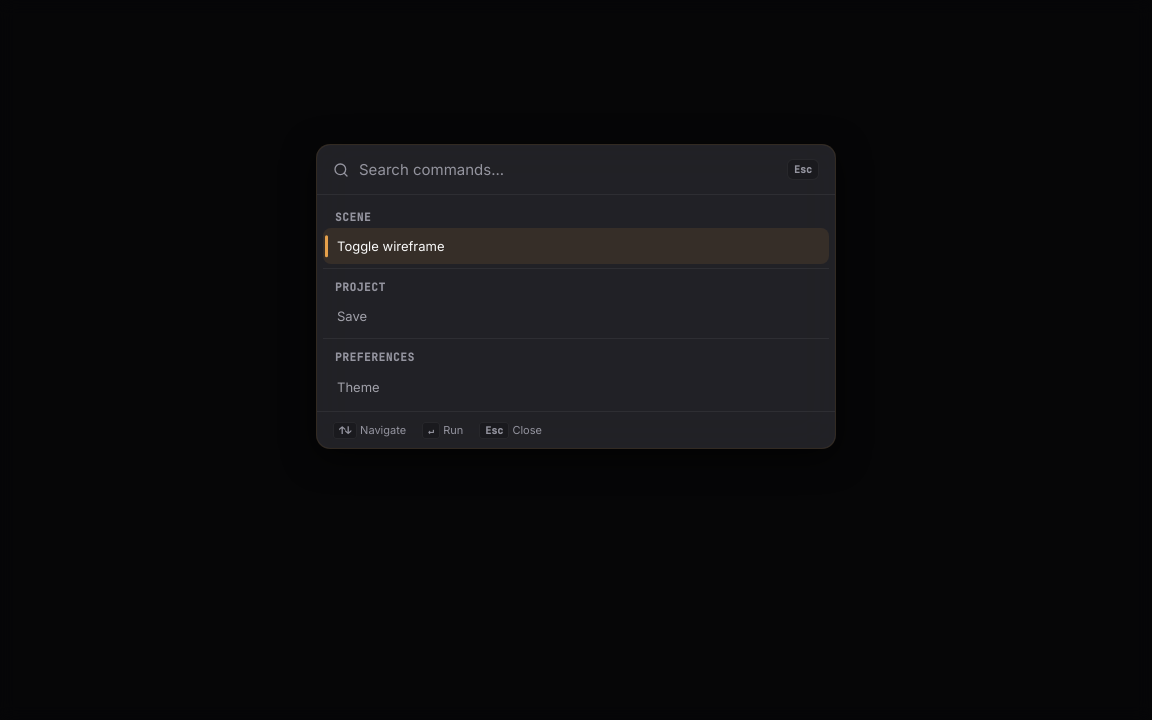
it: CommandPalette — category grouping › does not show category headers when a query is typed
Type "s" into the field with placeholder "Search commands...". click: x=568, y=170
box: left=359, top=160, right=777, bottom=179
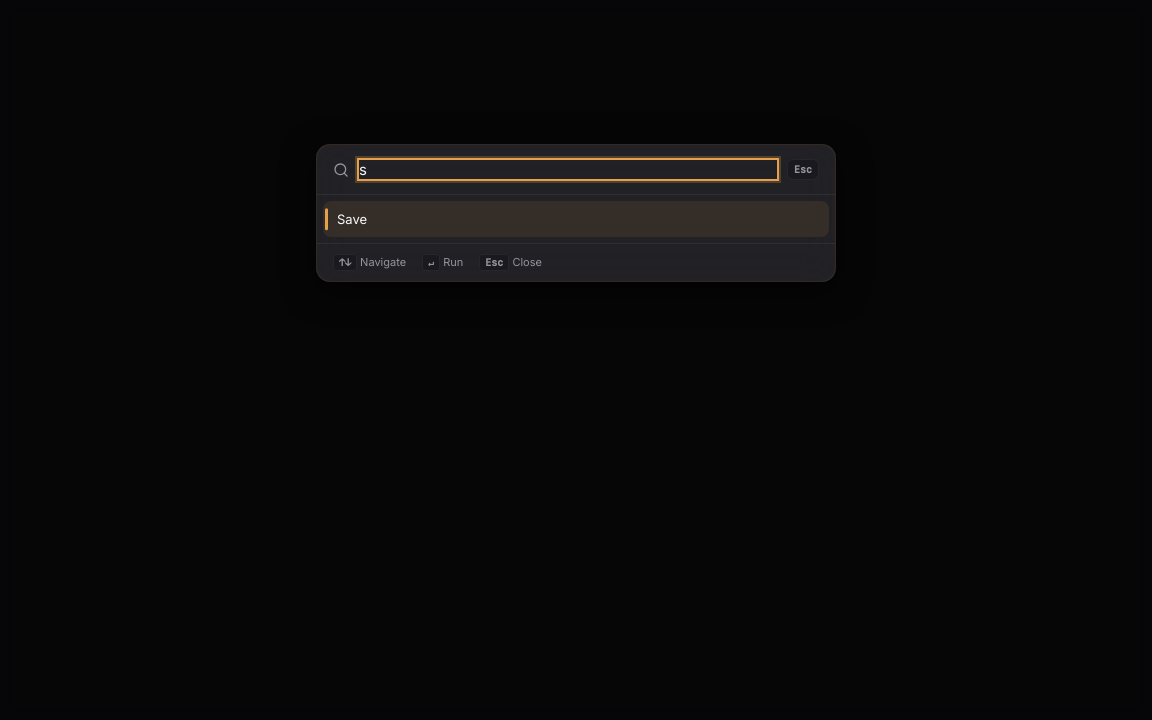
Now the text "Scene" is gone
Now the text "Project" is gone
